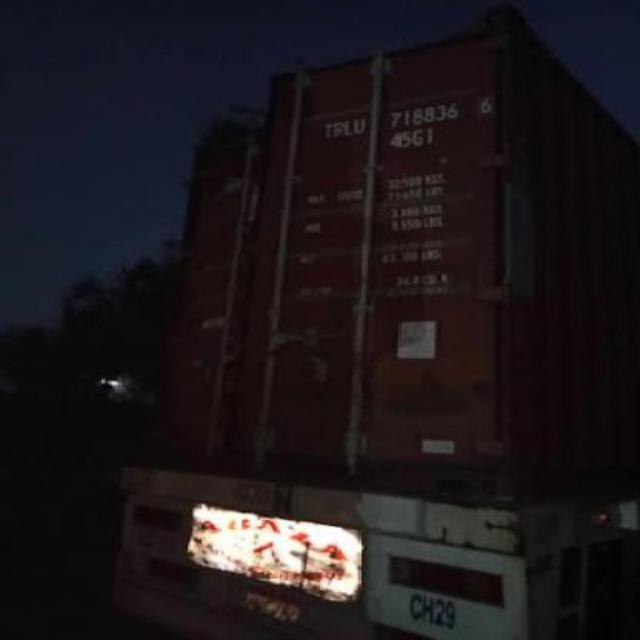1: (400, 104, 410, 132)
3: (436, 102, 446, 125)
6: (478, 90, 492, 116), (444, 100, 458, 124)
7: (384, 106, 400, 132)
8: (411, 106, 424, 128), (424, 102, 436, 125)
L: (342, 115, 352, 141)
R: (332, 118, 342, 144)
T: (322, 119, 332, 143)
U: (352, 114, 366, 142)
